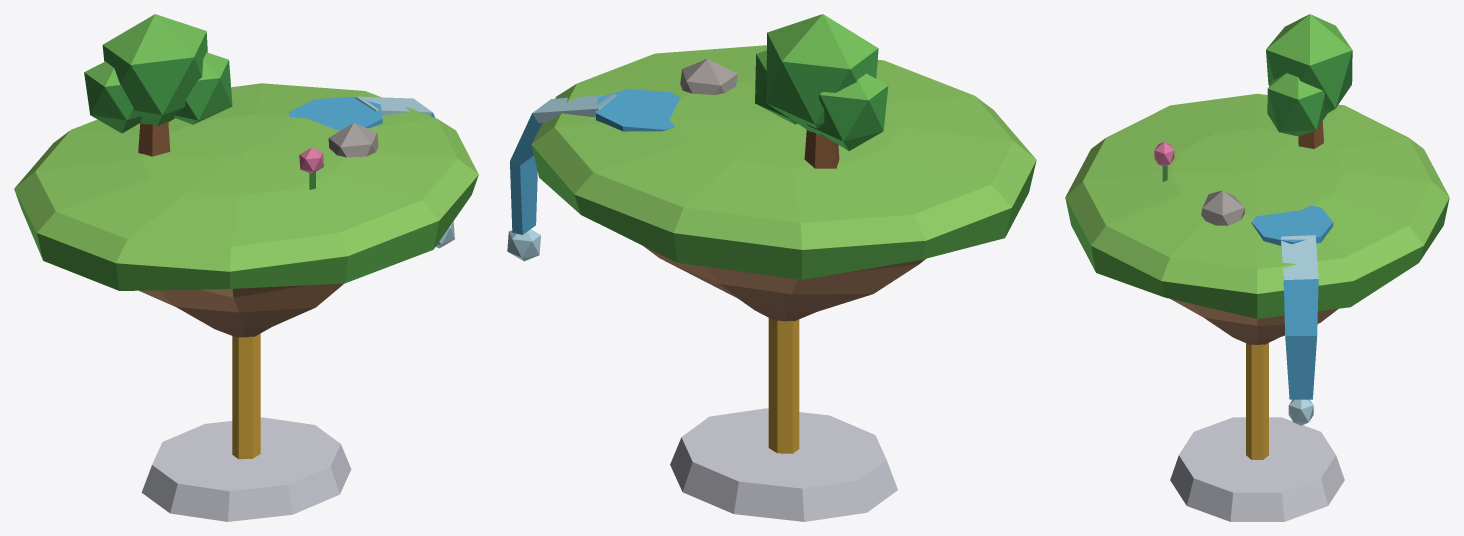
File: habitat_prop_isle.fbx
3 views of the same model, side by side, from view 1: azimuth 30°, elevation 25°; view 2: azimuth 150°, elevation 25°; view 3: azimuth 270°, elevation 25° (orthographic). The views are drawn at different scales.
Visible parts, largest first — view 1: habitat_prop_isle; view 2: habitat_prop_isle; view 3: habitat_prop_isle.
Boxes of the visible parts, x1=… form: habitat_prop_isle: x1=14, y1=14, x2=478, y2=521; habitat_prop_isle: x1=507, y1=14, x2=1036, y2=521; habitat_prop_isle: x1=1065, y1=14, x2=1449, y2=521.
Bounding box in the file's own units: 1.38 × 1.39 × 1.11.
